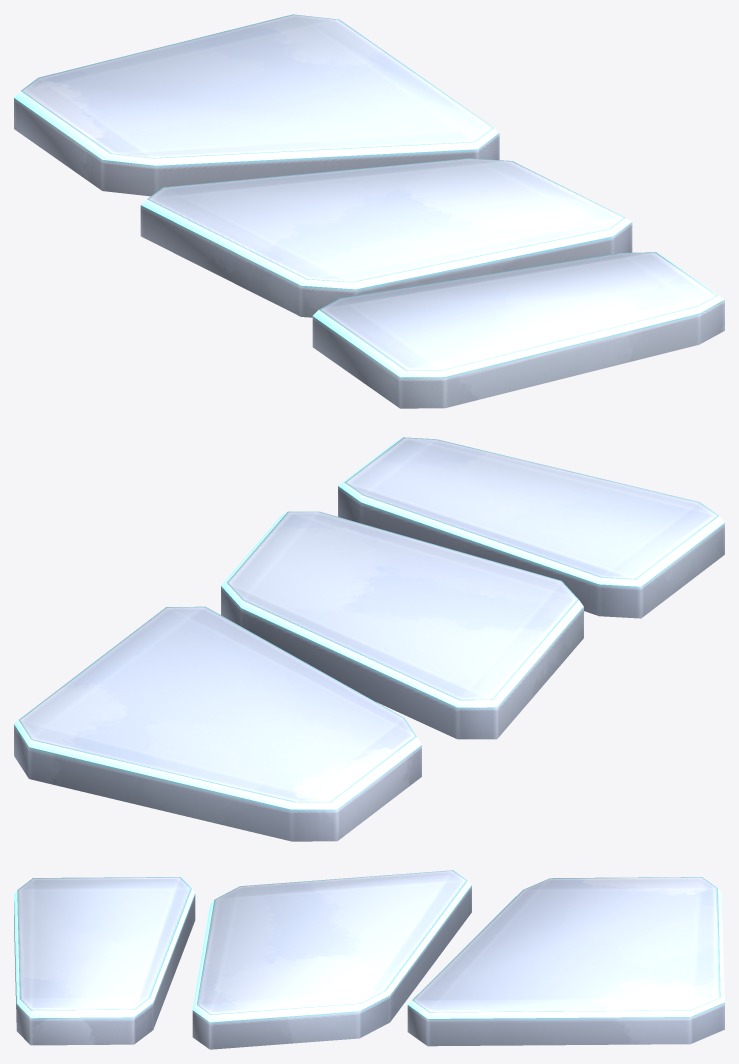
The model's file is obj_tile01.gltf.
The picture shows the model from 3 angles, top to bottom: view 1: azimuth 30°, elevation 25°; view 2: azimuth 150°, elevation 25°; view 3: azimuth 270°, elevation 25°; orthographic projection. The views are drawn at different scales.
Parts seen in each view (by area): view 1: obj_tile01; view 2: obj_tile01; view 3: obj_tile01.
Part boxes in pixels (box(x1,y1,x2,y2)): obj_tile01: box(14, 14, 724, 408); obj_tile01: box(14, 437, 724, 841); obj_tile01: box(14, 870, 724, 1049).
Size of what is drawn, in the model's own units: 0.829 by 0.0827 by 1.66.
Materials: 2 (1 with a texture image).
